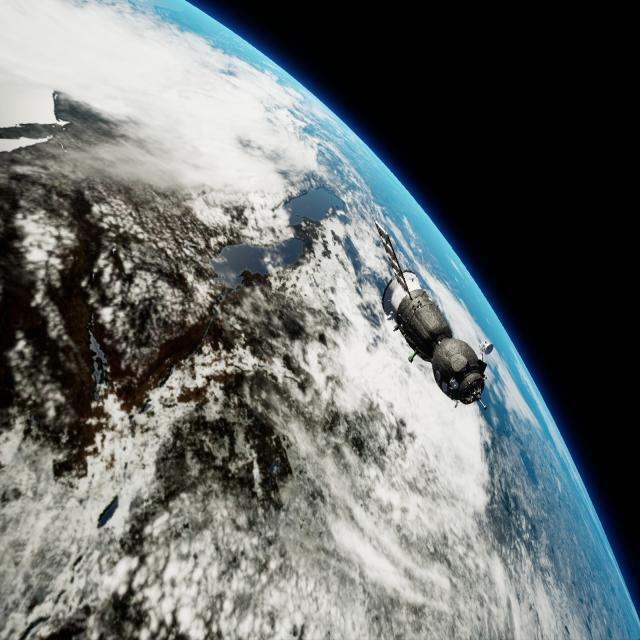Satellites revolving around earth: (1, 1, 637, 638)
